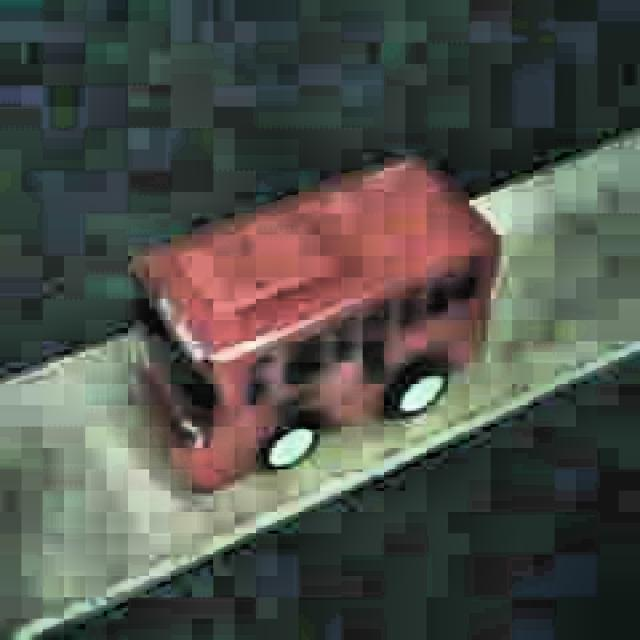bus: (131, 152, 501, 499)
